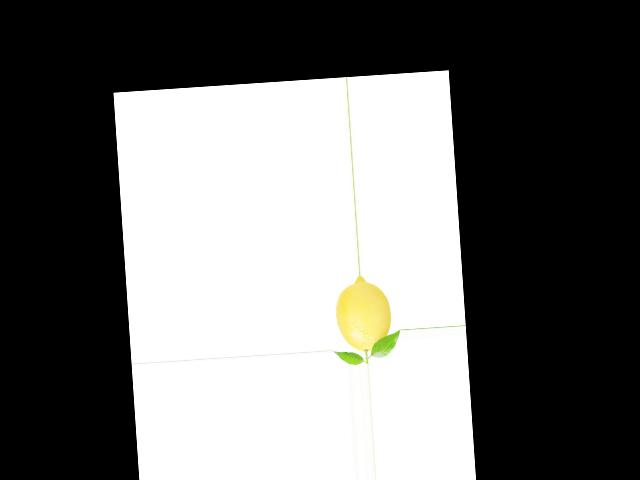lemon: (331, 275, 396, 360)
